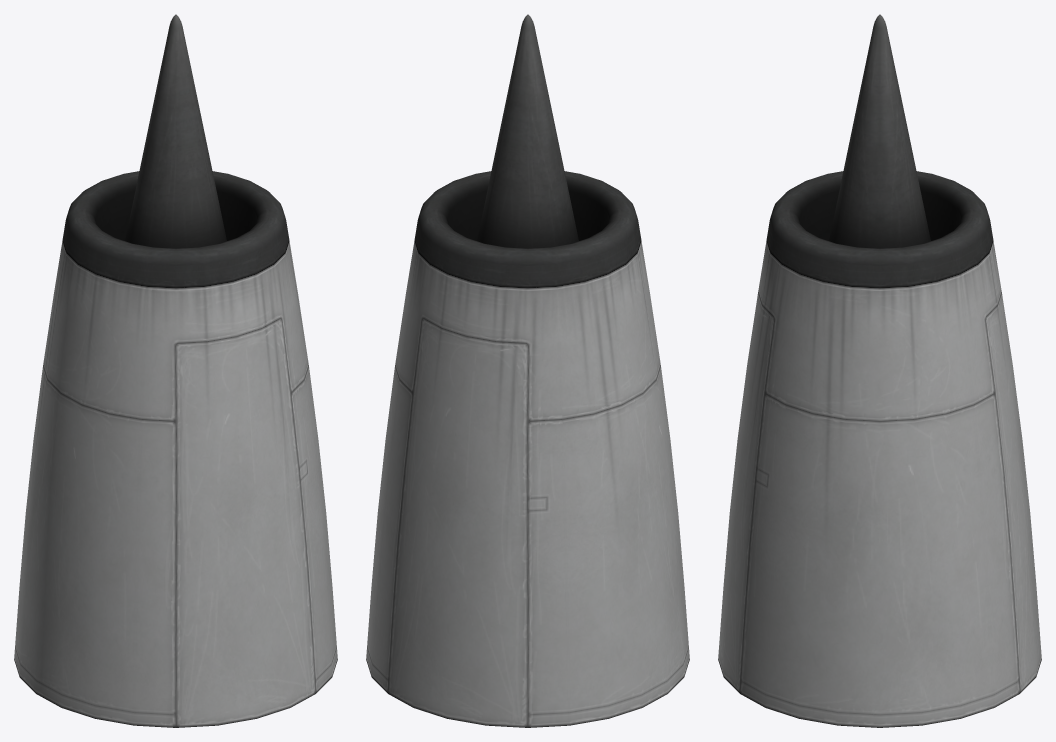
File: tarazet_air_intake_s1_1.obj
The picture shows the model from 3 angles, left to right: view 1: azimuth 30°, elevation 25°; view 2: azimuth 150°, elevation 25°; view 3: azimuth 270°, elevation 25°; orthographic projection.
Visible parts, largest first — view 1: mesh; view 2: mesh; view 3: mesh.
Part boxes in pixels (<box>): mesh: <box>14,14,337,727</box>; mesh: <box>366,14,689,727</box>; mesh: <box>718,14,1041,727</box>.
Bounding box in the file's own units: 1.25 × 2.75 × 1.25.
